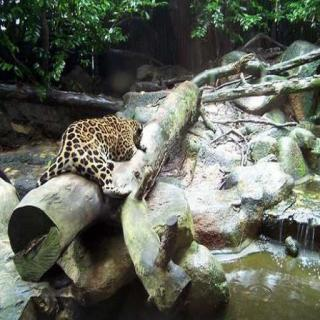Leopard: (50, 108, 166, 194)
